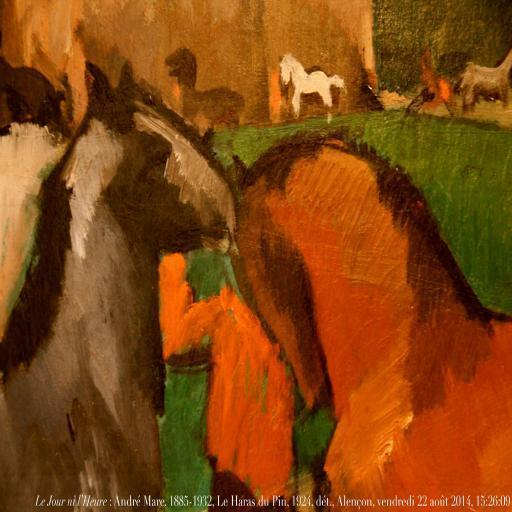horse: (228, 129, 512, 512), (0, 60, 237, 512), (278, 52, 348, 121)
